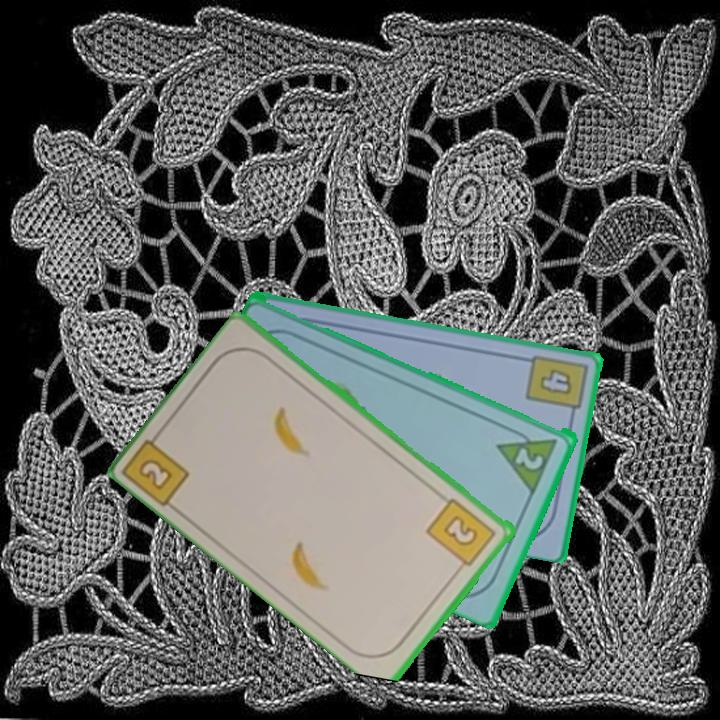2b: (423, 494, 500, 575), (122, 424, 194, 509)
2p: (512, 443, 547, 473)
4b: (522, 350, 590, 422)
